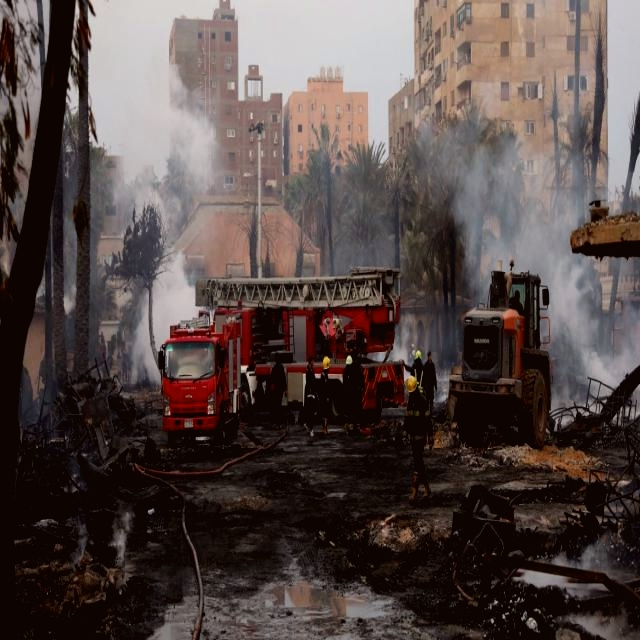Fire-truck: (137, 297, 256, 457)
person: (402, 375, 434, 504), (347, 353, 365, 436), (270, 351, 288, 430), (304, 355, 318, 437), (320, 356, 331, 436), (342, 355, 353, 429), (509, 290, 524, 314)
